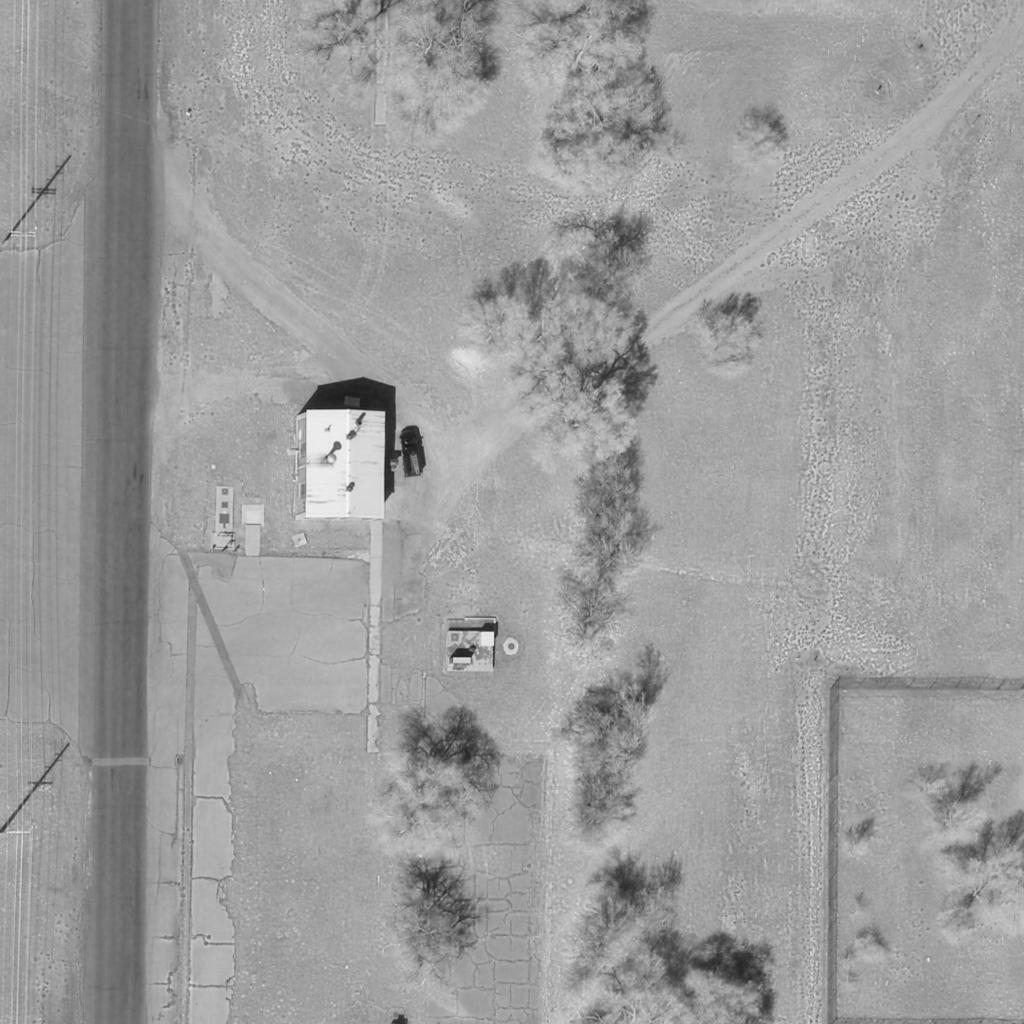vehicle: (399, 429, 423, 479)
